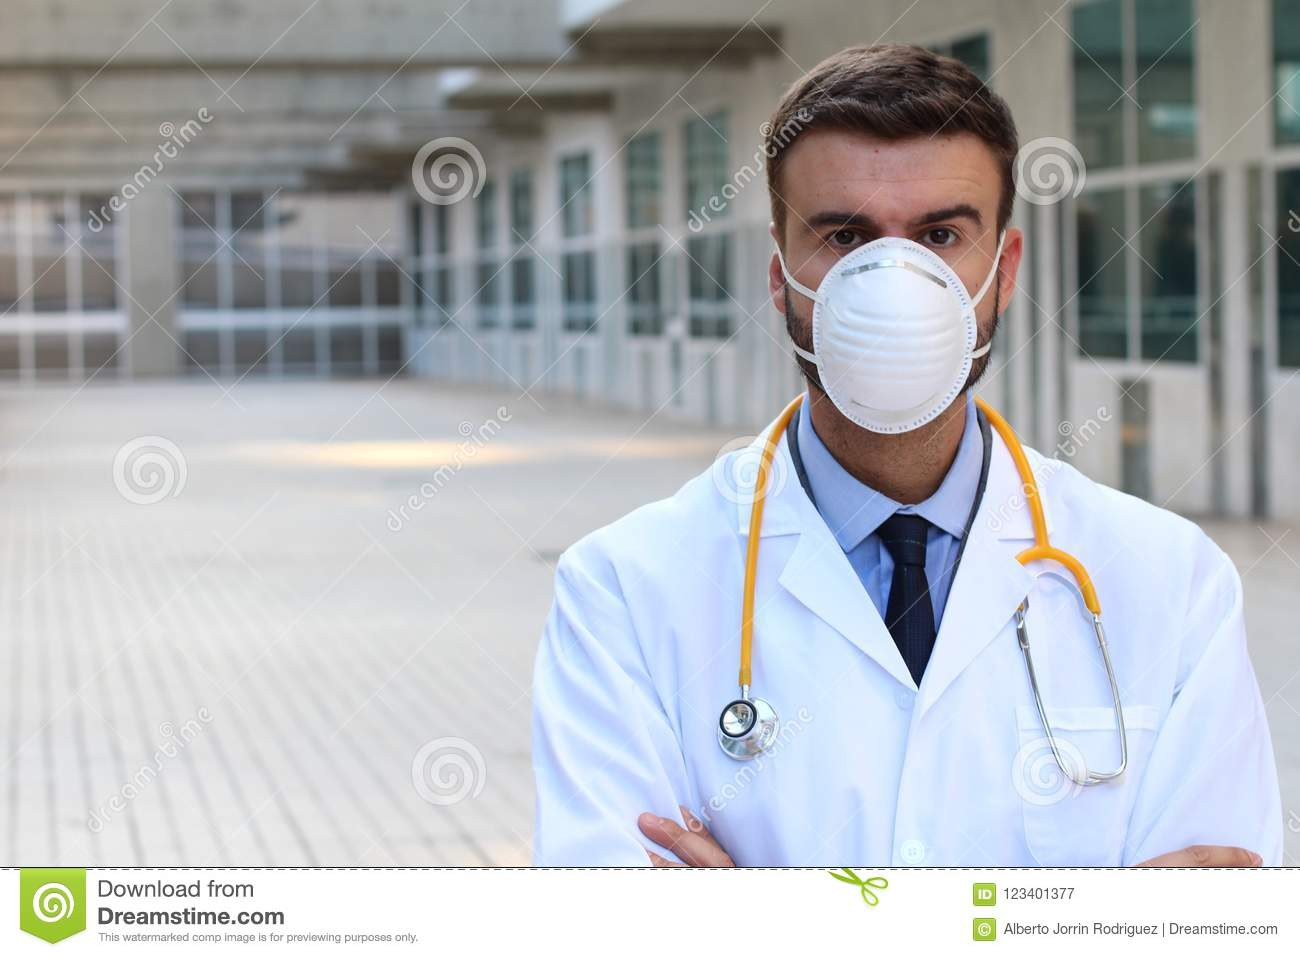mask: (813, 241, 981, 426)
